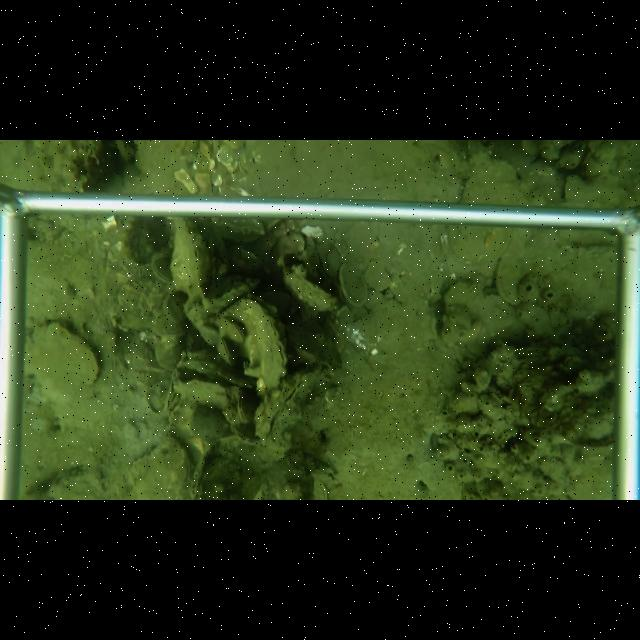Oyster-Closed: (220, 296, 292, 398), (28, 318, 103, 402), (256, 365, 322, 451), (461, 154, 550, 206), (119, 437, 192, 500), (167, 217, 213, 311), (285, 267, 341, 315), (161, 365, 183, 433), (188, 443, 214, 500), (234, 389, 251, 428)
